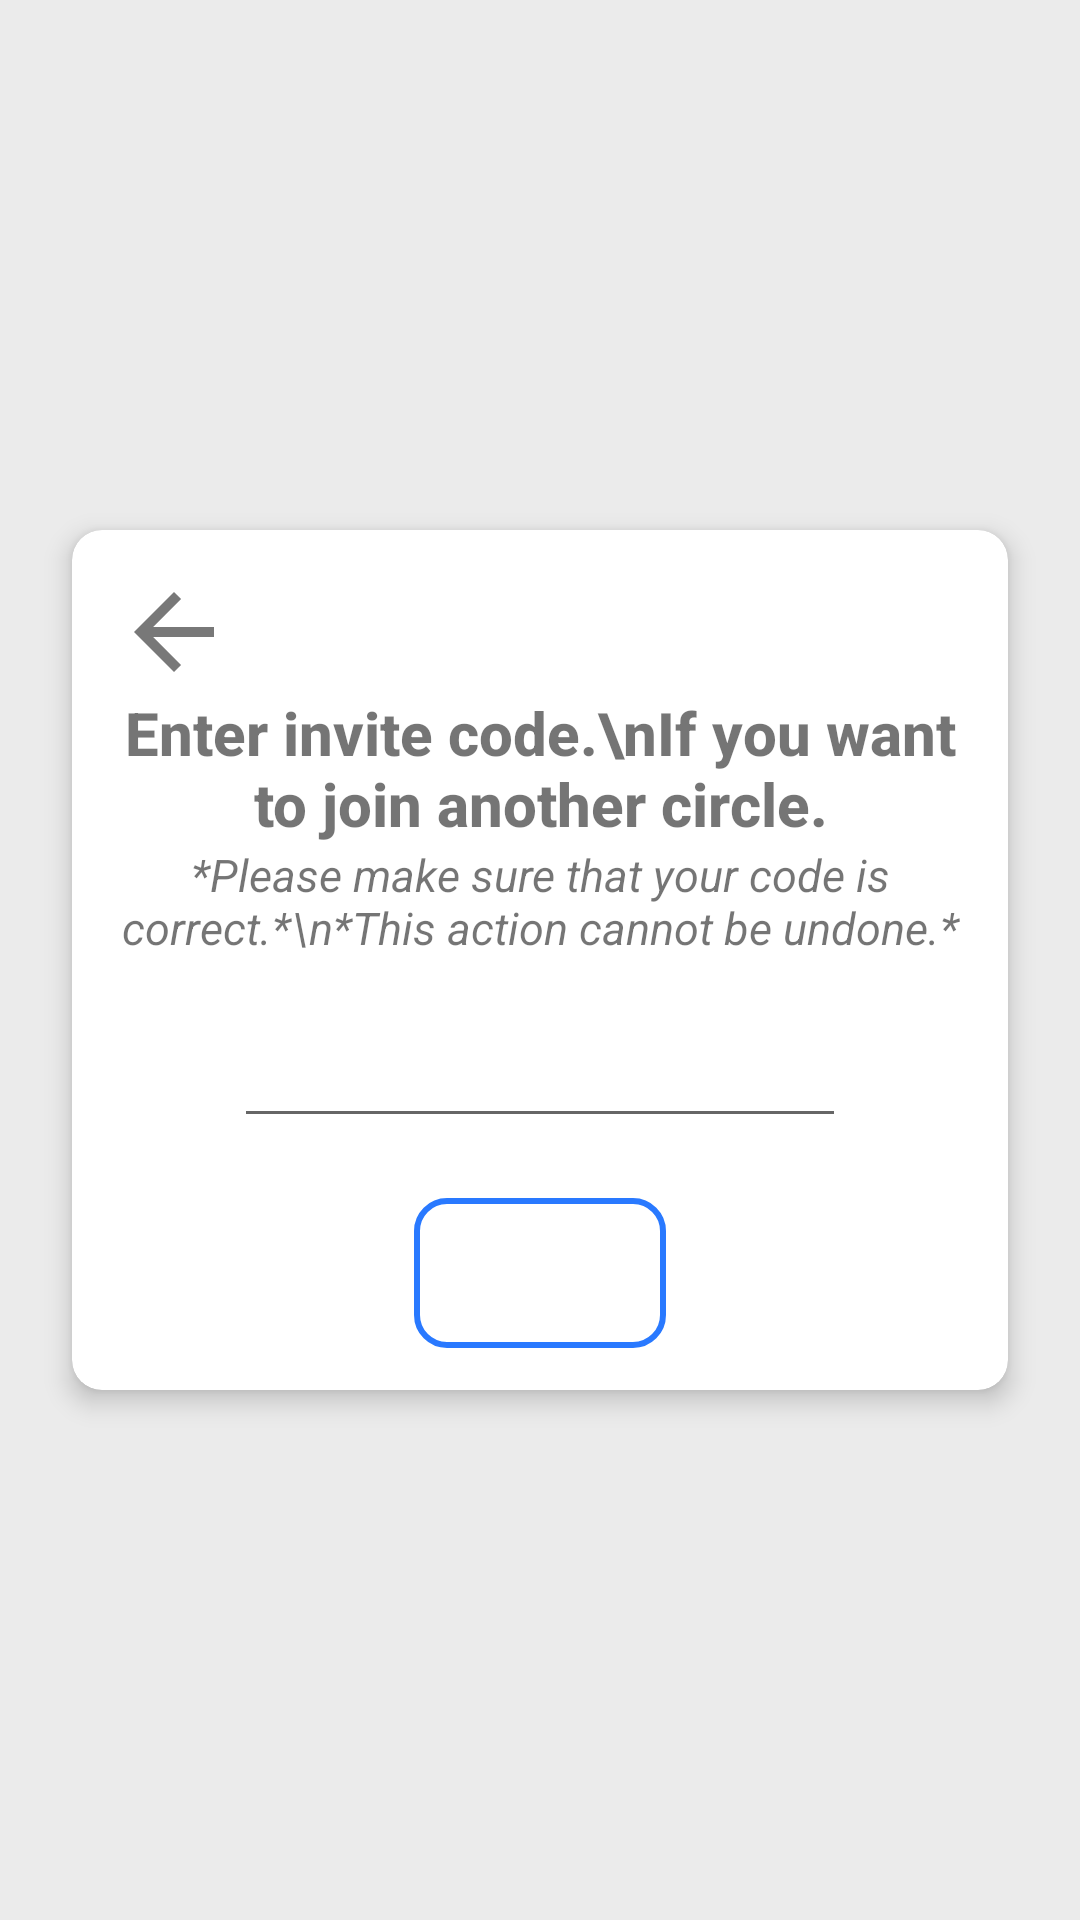

Icons on this 1080w x 1920h Android screen, each with the point to tap as (x,y):
arrow back: (174,632)
